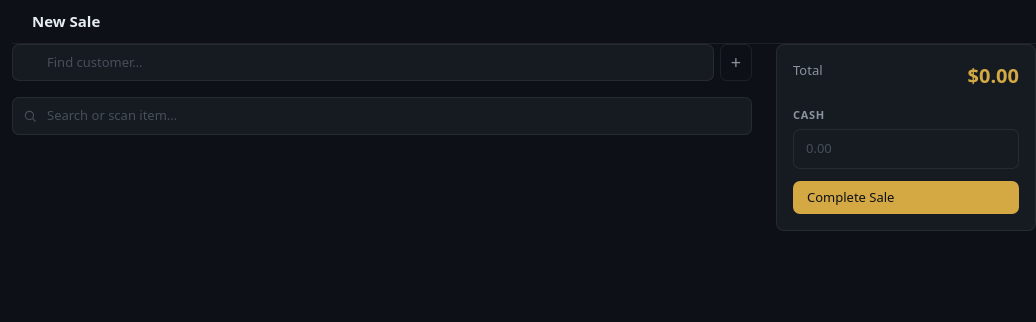
it: SaleScreen › shows a validation message when the tender is insufficient
Step 1. Type "Diamond" into the search field labelled "Search or scan item…" → point(382, 116), box [12,97,752,134]
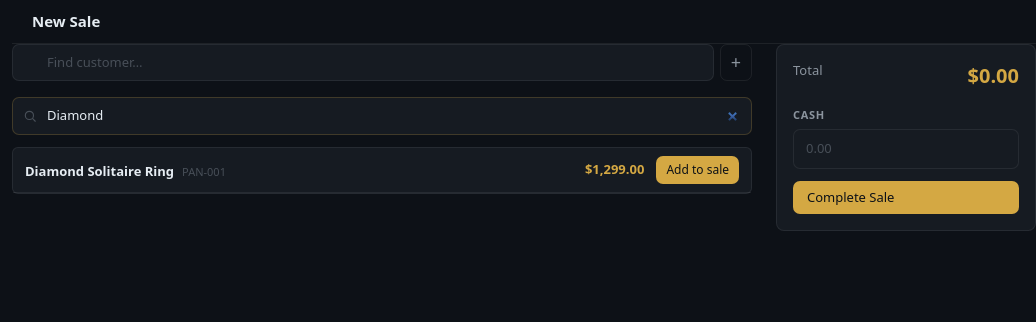
Step 2. Click the button "Add to sale" → point(698, 170), box [656,156,739,184]
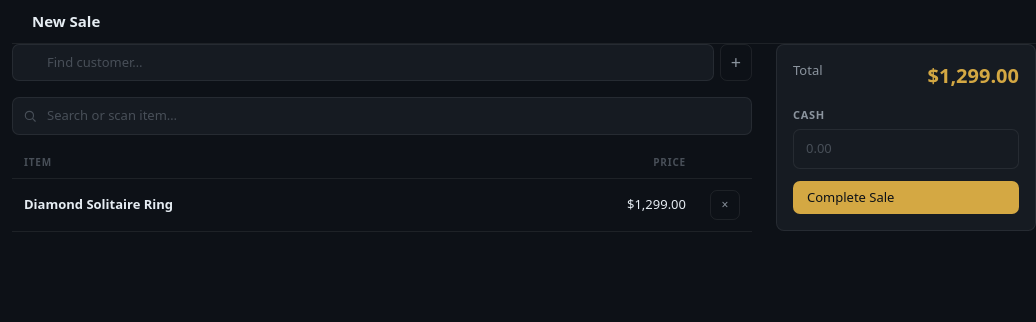
Result: the text "Diamond Solitaire Ring" is shown at [24,195,173,213]
Step 3. Type "500" into the number field labelled "Cash" → point(906, 149), box [793,129,1019,168]
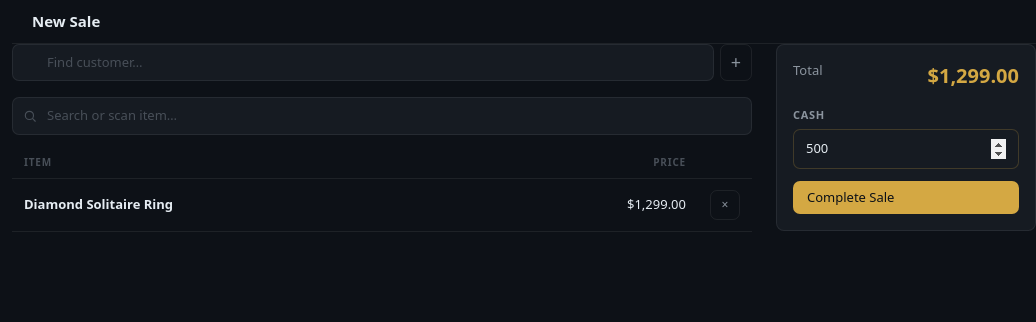
Step 4. Click the button "Complete Sale" → point(906, 197), box [793,180,1019,214]
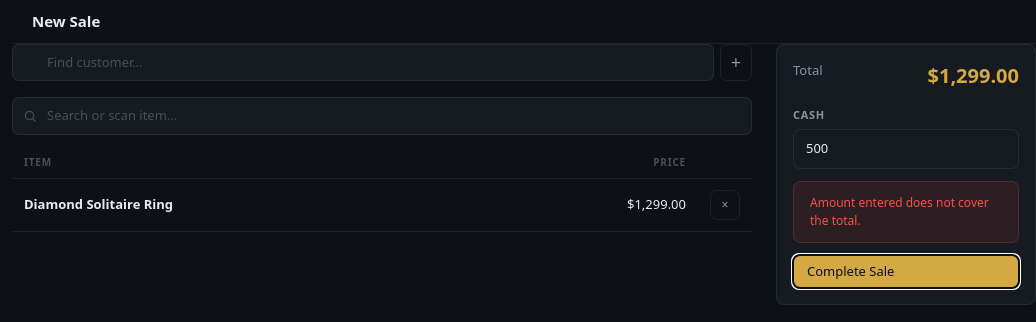
Result: the text "Amount entered does not cover the total." is shown at [793,180,1019,242]
